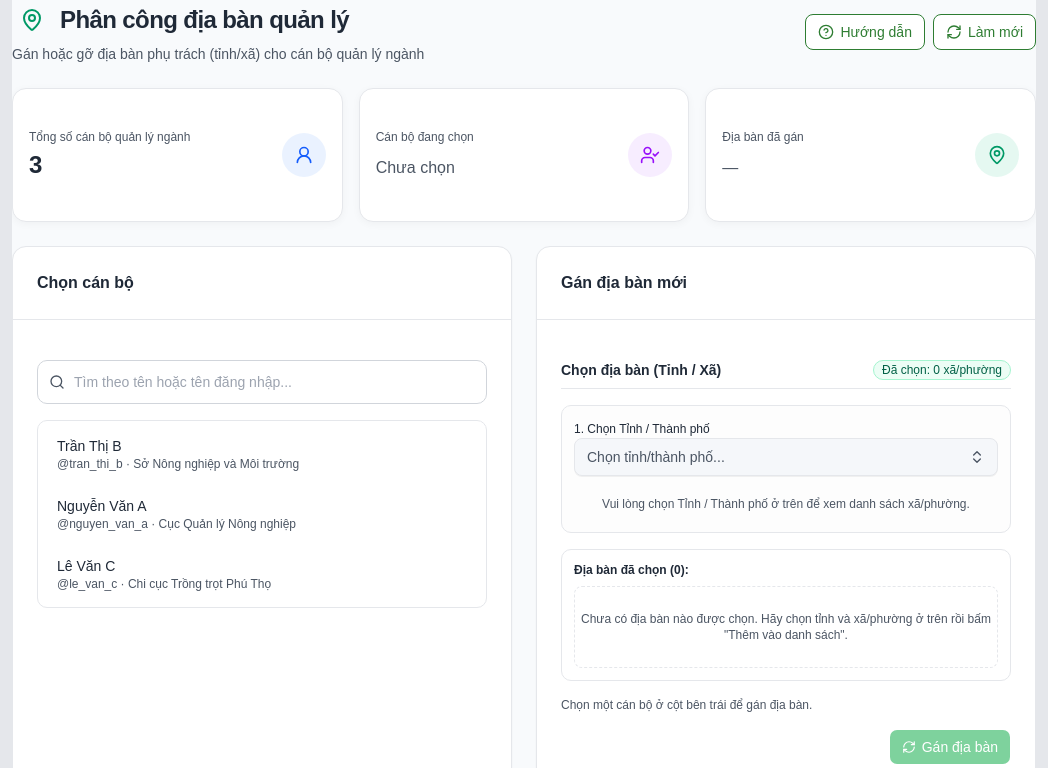
Test: AreaAssignmentPage › TC-B: chọn cán bộ đã gán sẵn → hiển thị chip địa bàn đúng tên
What coordinates should you click on to do the following:
click the text "Nguyễn Văn A"
I would click on:
 (102, 506)
Its box is [57,496,146,516].
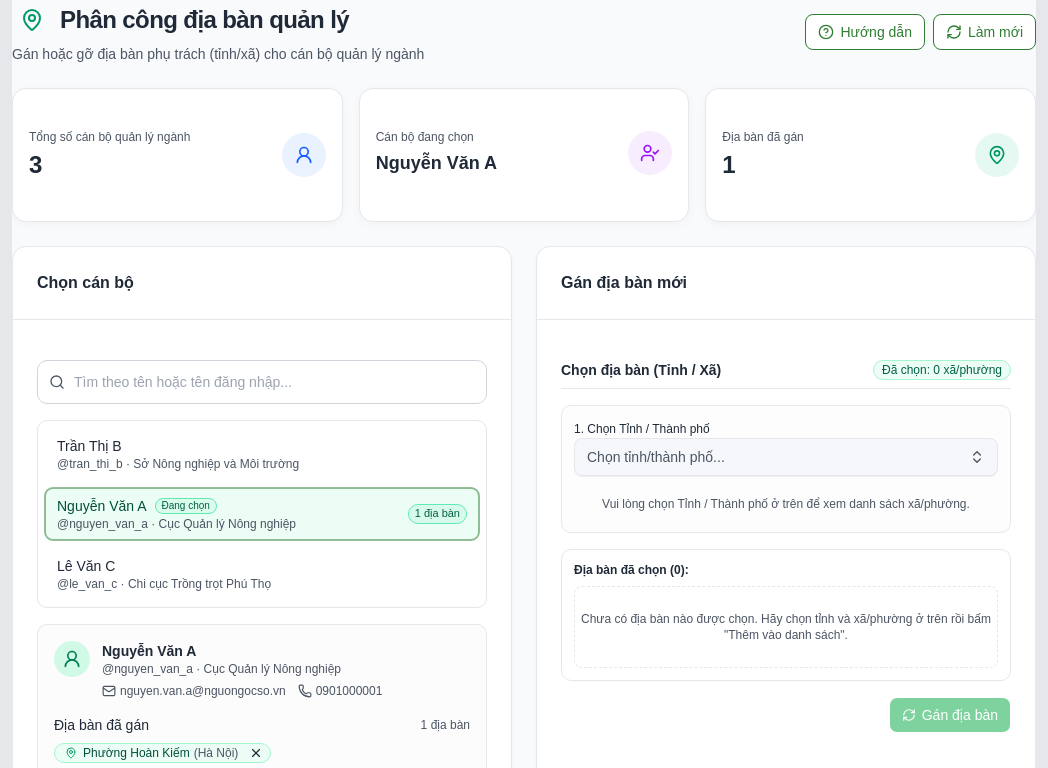
Now the text "Phường Hoàn Kiếm(Hà Nội)" is shown, box [83,745,238,761]
Now the text "(Hà Nội)" is shown, box [194,746,238,760]
